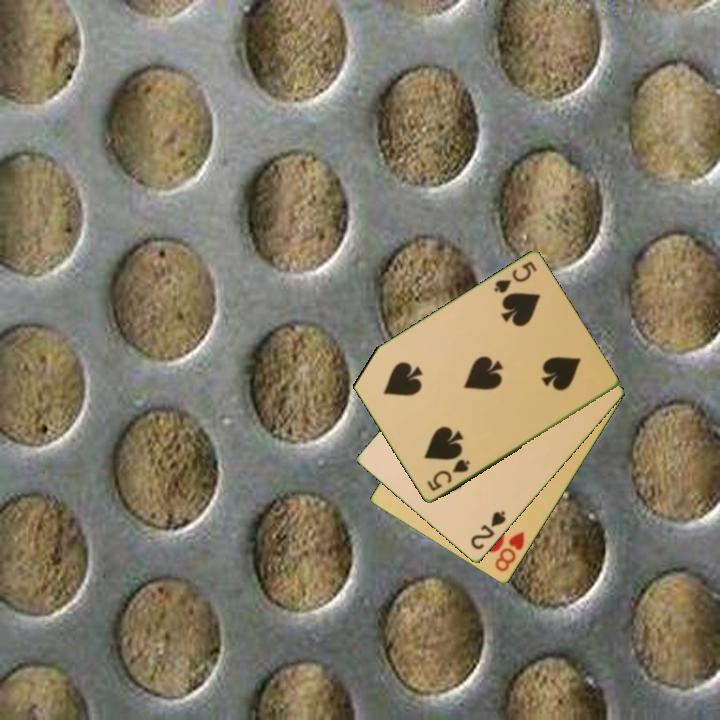2s: (467, 507, 509, 553)
5s: (423, 456, 473, 495), (490, 258, 540, 297)
8h: (491, 528, 528, 575)
